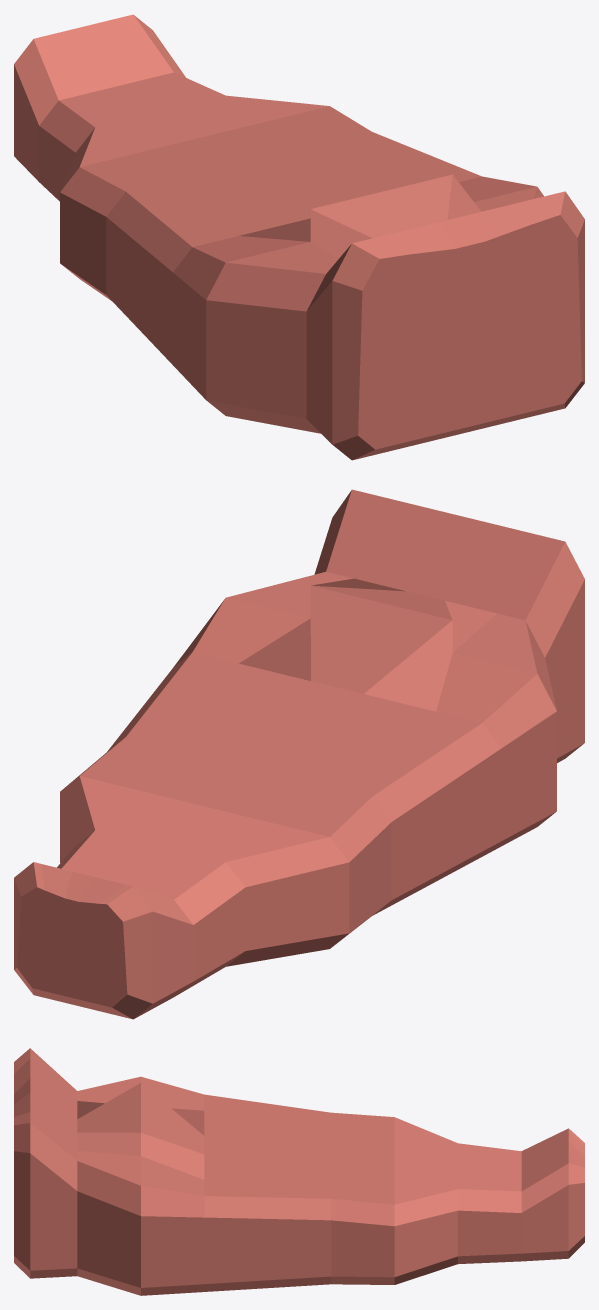
File: calder_light_c.glb
3 views of the same model, one above another, from view 1: azimuth 30°, elevation 25°; view 2: azimuth 150°, elevation 25°; view 3: azimuth 270°, elevation 25° (orthographic). The views are drawn at different scales.
Visible parts, largest first — view 1: calder_light_c; view 2: calder_light_c; view 3: calder_light_c.
Part boxes in pixels (x1,y1,x2,y2): calder_light_c: [14, 14, 584, 460]; calder_light_c: [14, 489, 584, 1019]; calder_light_c: [14, 1048, 584, 1295].
Size of the model in its own units: 2.8 by 1.66 by 5.5.
